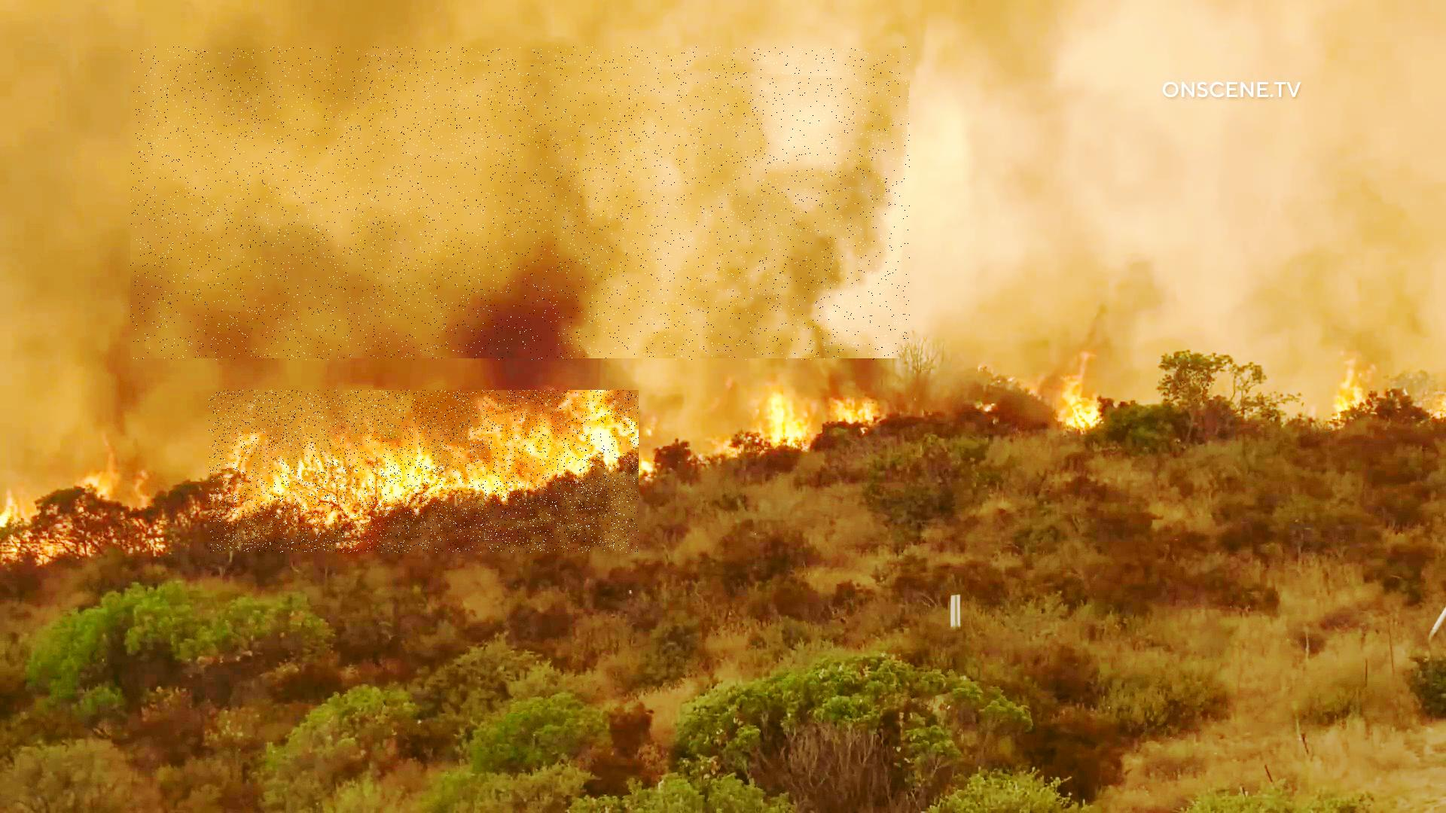fire: (209, 390, 639, 553)
smoke: (130, 47, 910, 360)
